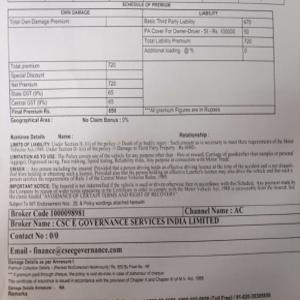table: (7, 7, 277, 114), (8, 205, 300, 256)
text: (10, 131, 296, 204), (8, 261, 203, 297)
